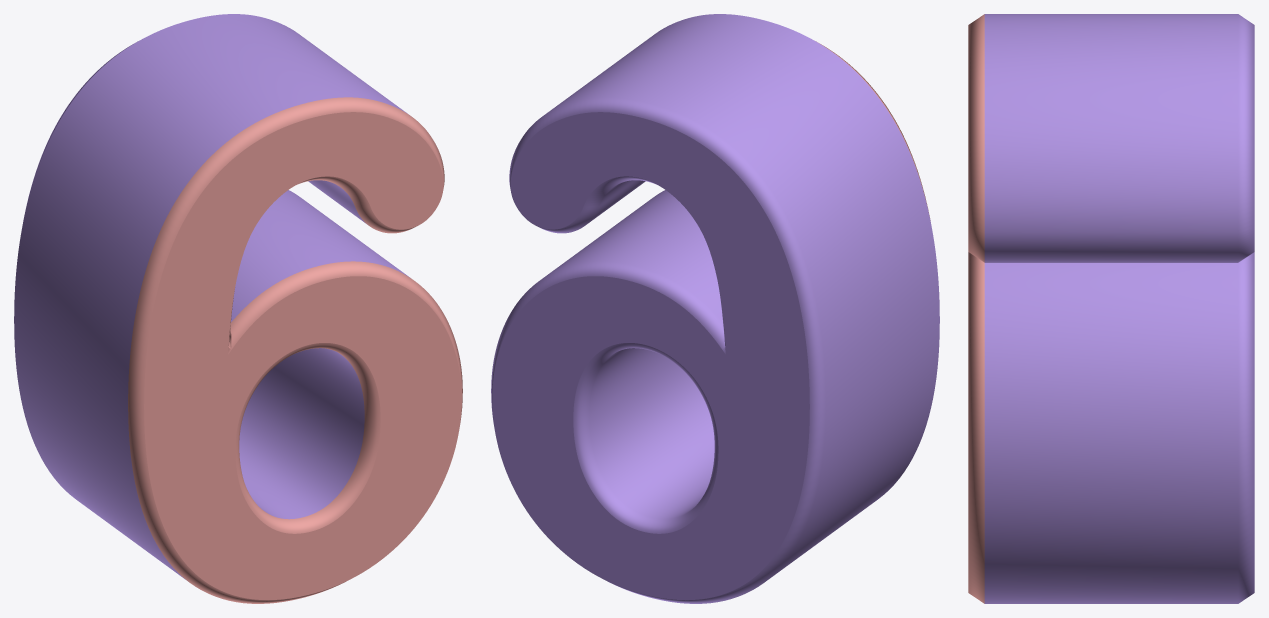
The picture shows the model from 3 angles, left to right: view 1: azimuth 30°, elevation 25°; view 2: azimuth 150°, elevation 25°; view 3: azimuth 270°, elevation 25°; orthographic projection. The views are drawn at different scales.
Visible parts, largest first — view 1: Enam 3D; view 2: Enam 3D; view 3: Enam 3D.
Part boxes in pixels (left/top/right/bottom): Enam 3D: left=14, top=14, right=462, bottom=603; Enam 3D: left=491, top=14, right=939, bottom=603; Enam 3D: left=968, top=14, right=1254, bottom=603.
Bounding box in the file's own units: 116 × 164 × 77.6.
